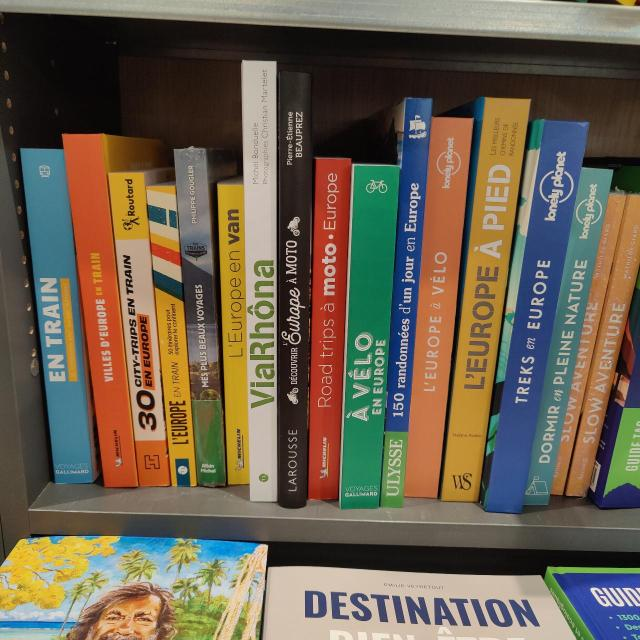book: (483, 121, 589, 514), (439, 97, 530, 502), (524, 168, 614, 506), (62, 133, 139, 487), (405, 116, 473, 498), (21, 149, 93, 483), (552, 194, 626, 496), (566, 197, 640, 497), (381, 98, 432, 508), (339, 164, 399, 508), (109, 173, 169, 487), (174, 149, 227, 487), (241, 60, 278, 502), (146, 185, 198, 486), (306, 158, 350, 499), (279, 72, 312, 508), (219, 186, 247, 484)
